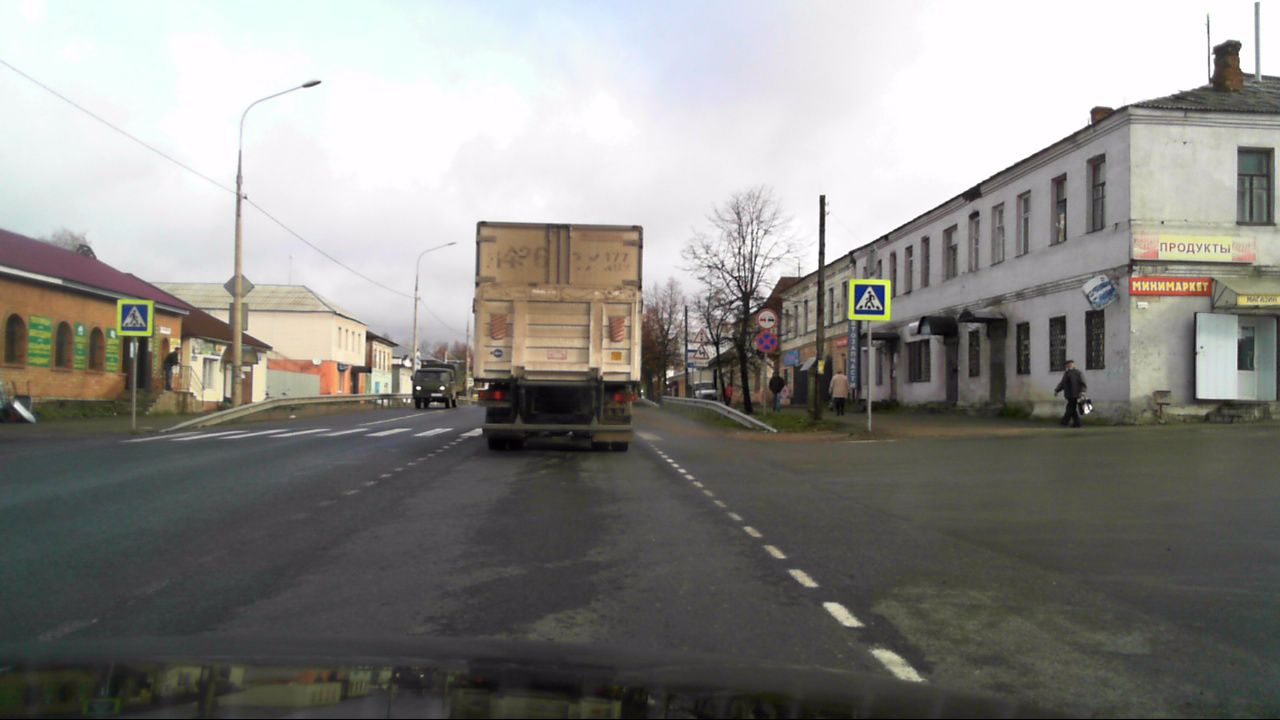No Parking: (755, 331, 777, 352)
